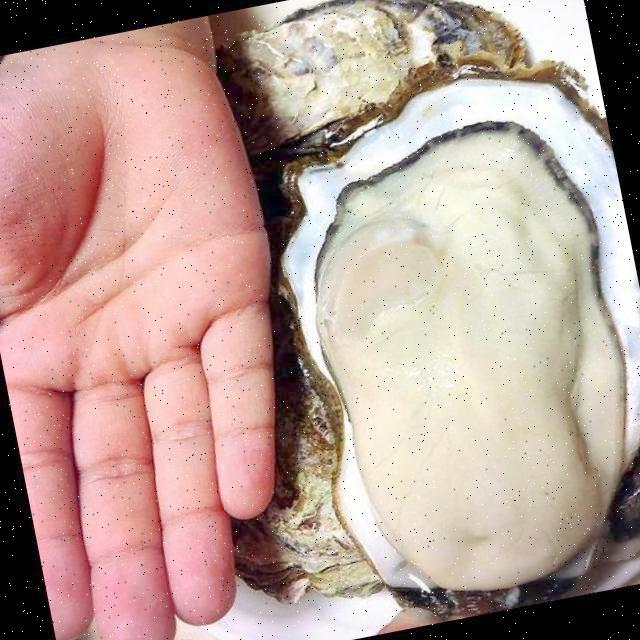Oyster-Closed: (210, 0, 538, 192)
Oyster-Open: (267, 47, 640, 631)
